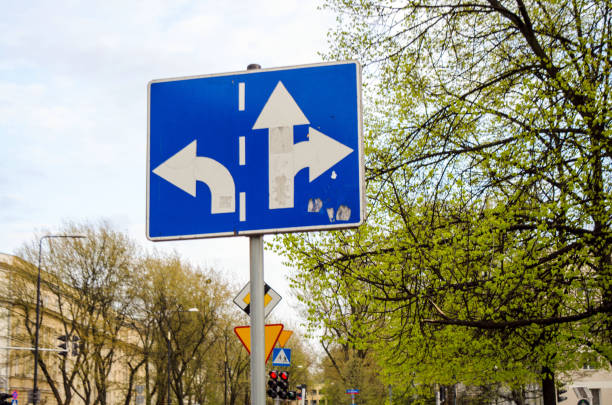ileri_veya_saga: (241, 60, 368, 233)
ileriden_sola: (147, 137, 244, 233)
